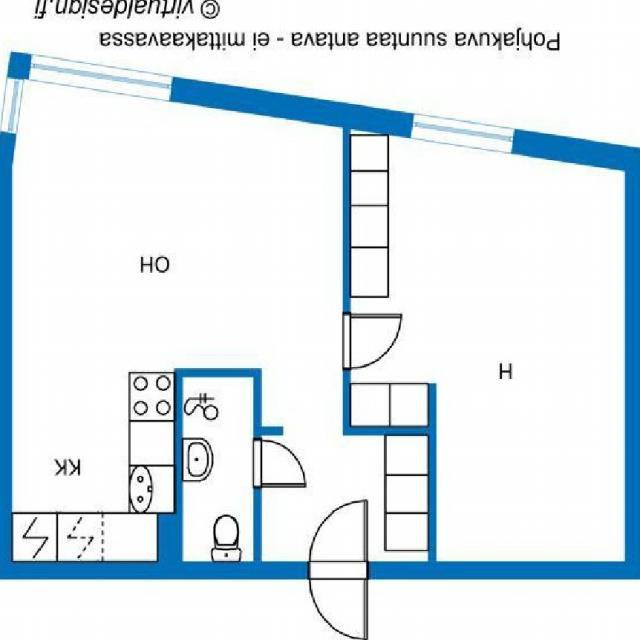door: (309, 562, 367, 640), (309, 501, 367, 578), (342, 314, 400, 368), (253, 438, 306, 486)
